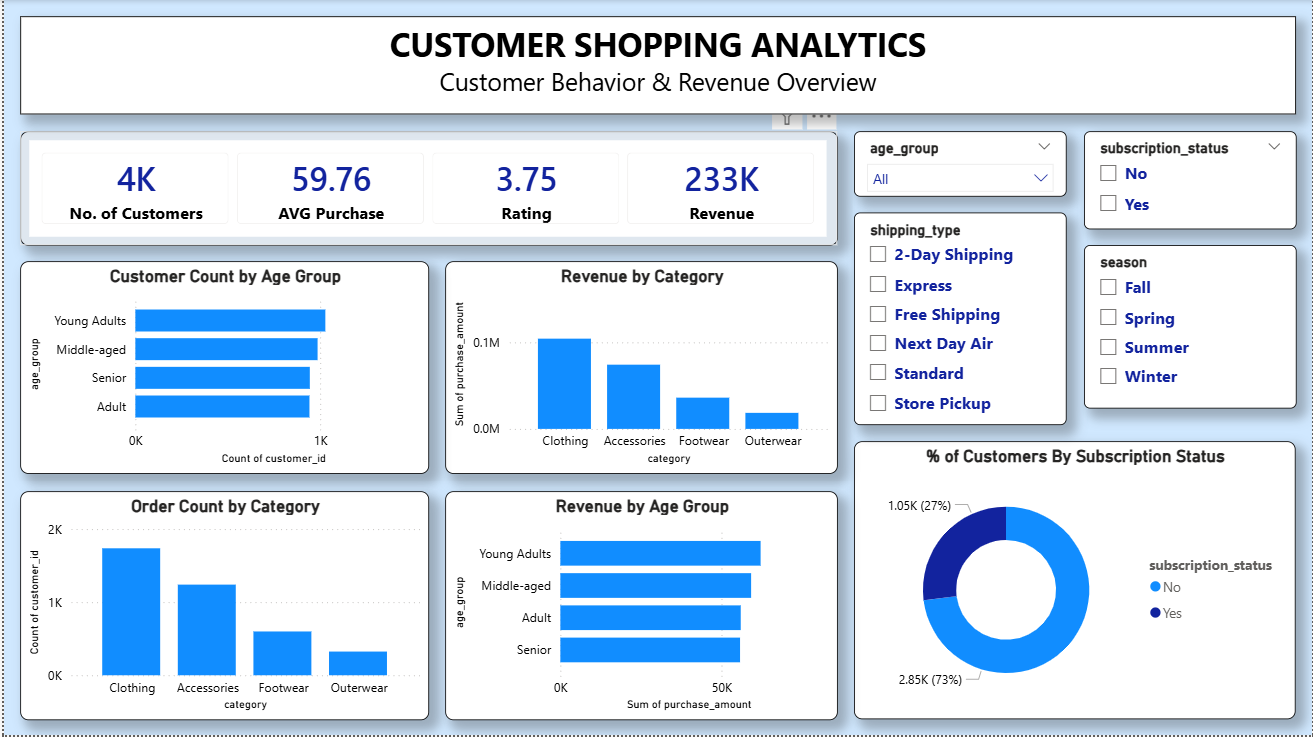

The dashboard page shown, as its layout file describes it:
{"tool":"powerbi","page":{"name":"Page 1","canvas":[1280,720],"ordinal":0},"visuals":[{"type":"cardVisual","fields":{"Data":["customer_behavior_mysql.Number of Customers","customer_behavior_mysql.Average Purchsae Amount","customer_behavior_mysql.Average Review Rating","customer_behavior_mysql.Total Revenue"]},"box":[16,128,800,112],"z":0},{"type":"donutChart","title":"% of Customers By Subscription Status","fields":{"Category":["customer_behavior_mysql.subscription_status"],"Y":["CountNonNull(customer_behavior_mysql.customer_id)"]},"box":[832,432,432,272],"z":1000},{"type":"clusteredColumnChart","title":"Revenue by Category","fields":{"Y":["Sum(customer_behavior_mysql.purchase_amount)"],"Category":["customer_behavior_mysql.category"]},"box":[432,256,384,208],"z":2000},{"type":"clusteredColumnChart","title":"Order Count by Category","fields":{"Y":["CountNonNull(customer_behavior_mysql.customer_id)"],"Category":["customer_behavior_mysql.category"]},"box":[16,480,400,224],"z":3000},{"type":"clusteredBarChart","title":"Revenue by Age Group","fields":{"Y":["Sum(customer_behavior_mysql.purchase_amount)"],"Category":["customer_behavior_mysql.age_group"]},"box":[432,480,384,224],"z":4000},{"type":"clusteredBarChart","title":"Customer Count by Age Group","fields":{"Y":["CountNonNull(customer_behavior_mysql.customer_id)"],"Category":["customer_behavior_mysql.age_group"]},"box":[16,256,400,208],"z":5000},{"type":"slicer","fields":{"Values":["customer_behavior_mysql.subscription_status"]},"box":[1056,128,208,96],"z":6000},{"type":"slicer","fields":{"Values":["customer_behavior_mysql.season"]},"box":[1056,240,208,160],"z":7000},{"type":"slicer","fields":{"Values":["customer_behavior_mysql.age_group"]},"box":[832,128,208,64],"z":8000},{"type":"slicer","fields":{"Values":["customer_behavior_mysql.shipping_type"]},"box":[832,208,208,208],"z":9000},{"type":"textbox","box":[16,16,1248,96],"z":10000}]}

Visuals, with their boxes in screenshot pixels (x1, y1, x2, y2), scaled from the page's 1280x720 canvas onto the 1313x737 screenshot:
cardVisual - customer_behavior_mysql.Number of Customers x customer_behavior_mysql.Average Purchsae Amount: box(16, 131, 837, 246)
"% of Customers By Subscription Status" donutChart: box(853, 442, 1297, 721)
"Revenue by Category" clusteredColumnChart: box(443, 262, 837, 475)
"Order Count by Category" clusteredColumnChart: box(16, 491, 427, 721)
"Revenue by Age Group" clusteredBarChart: box(443, 491, 837, 721)
"Customer Count by Age Group" clusteredBarChart: box(16, 262, 427, 475)
slicer - customer_behavior_mysql.subscription_status: box(1083, 131, 1297, 229)
slicer - customer_behavior_mysql.season: box(1083, 246, 1297, 409)
slicer - customer_behavior_mysql.age_group: box(853, 131, 1067, 197)
slicer - customer_behavior_mysql.shipping_type: box(853, 213, 1067, 426)
textbox: box(16, 16, 1297, 115)
